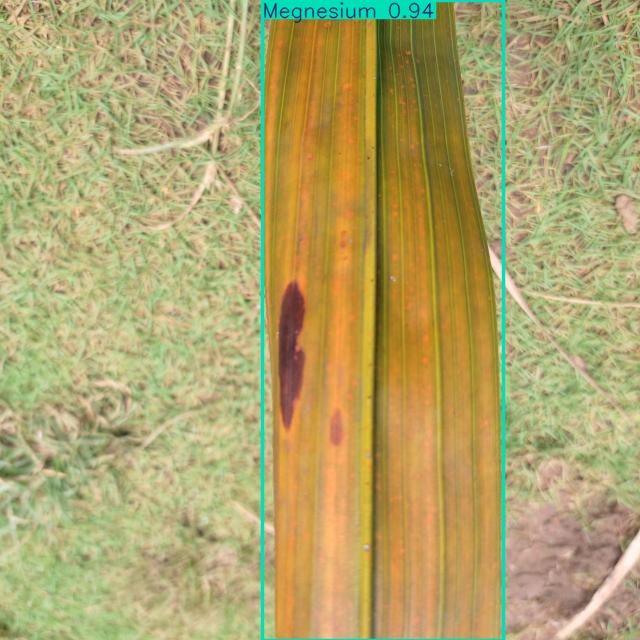Megnesium: (262, 0, 504, 640)
